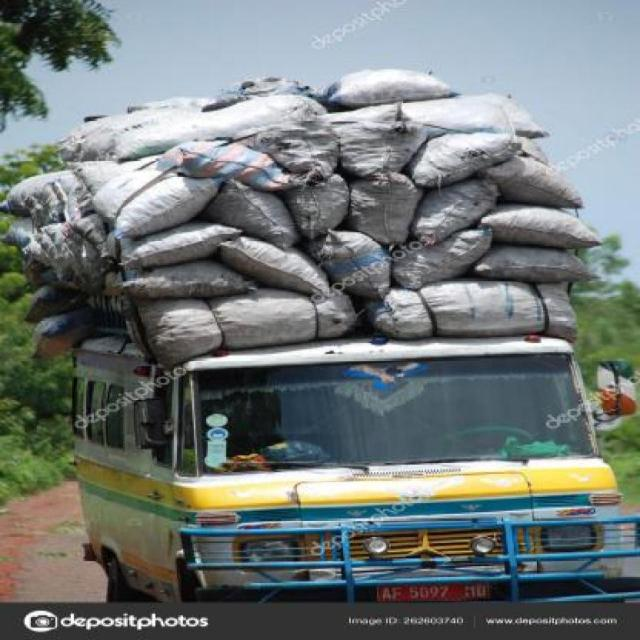normal_truck: (72, 336, 640, 602)
overloaded_truck: (6, 69, 598, 369)
